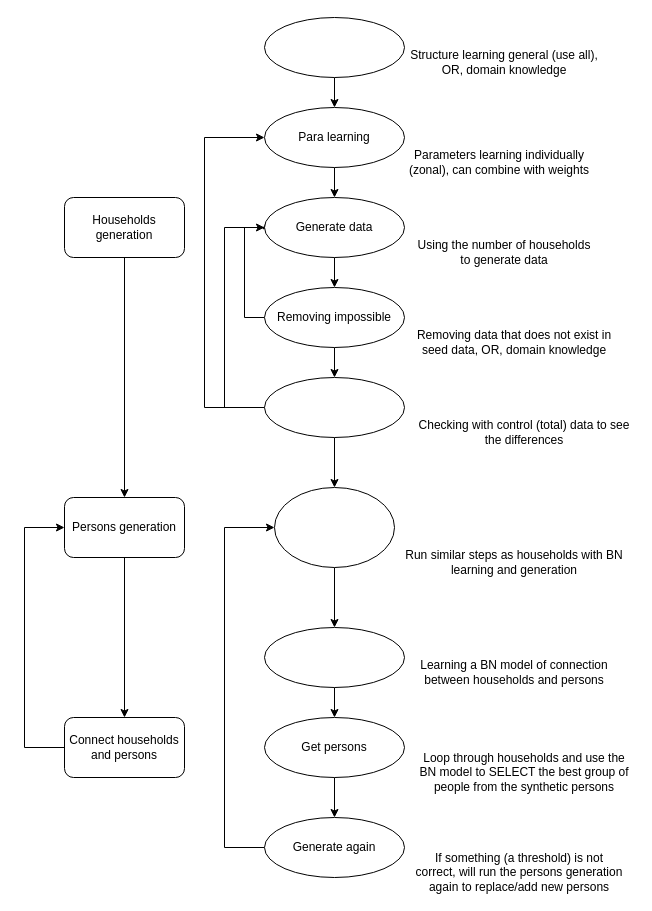
The diagram is 652 pixels wide and 911 high, and some of its shapes have lost their labels. The centre of each missing label's shape, as x and y in pixels:
BN learning: (334,657)
Match with total: (334,407)
Same as above: (334,527)
Struct learning: (334,47)
